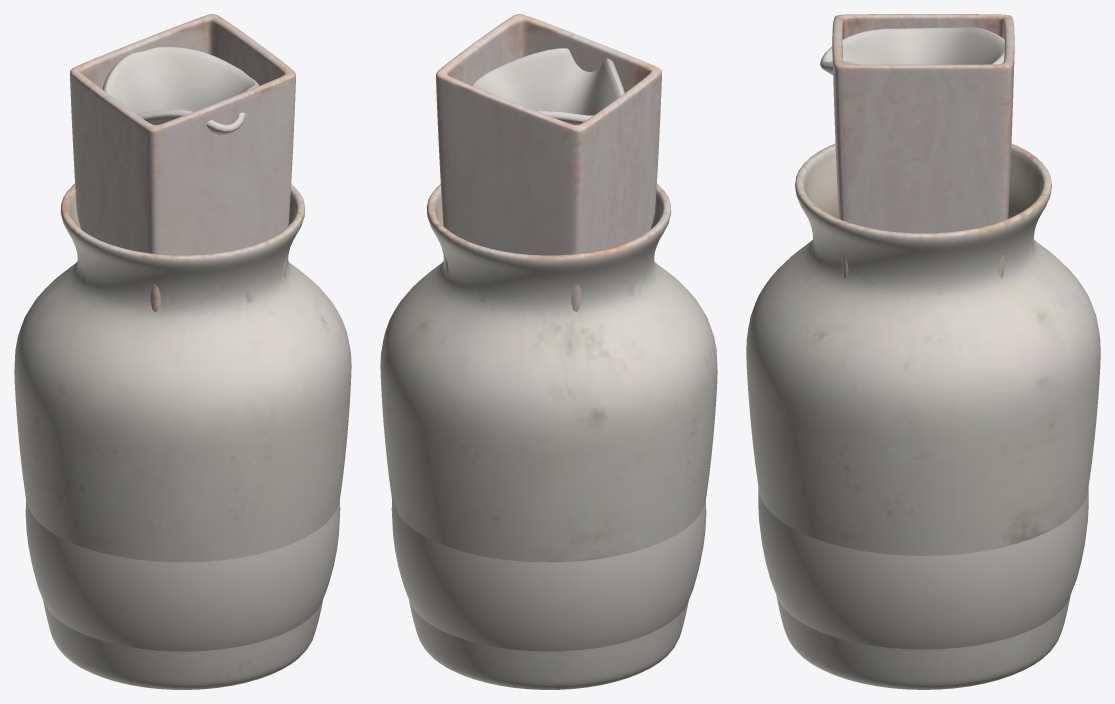
File: decor.glb
3 renders of one model, left to right at view 1: azimuth 30°, elevation 25°; view 2: azimuth 150°, elevation 25°; view 3: azimuth 270°, elevation 25°, orthographic. The views are drawn at different scales.
Parts seen in each view (by area): view 1: ceramic_vase_02, ceramic_vase_03, ceramic_vase_01; view 2: ceramic_vase_02, ceramic_vase_03, ceramic_vase_01; view 3: ceramic_vase_02, ceramic_vase_01, ceramic_vase_03.
Boxes of the visible parts, x1=… form: ceramic_vase_02: x1=14, y1=184, x2=351, y2=689; ceramic_vase_03: x1=70, y1=14, x2=295, y2=312; ceramic_vase_01: x1=25, y1=47, x2=340, y2=651; ceramic_vase_02: x1=380, y1=184, x2=717, y2=689; ceramic_vase_03: x1=436, y1=14, x2=661, y2=312; ceramic_vase_01: x1=391, y1=48, x2=706, y2=651; ceramic_vase_02: x1=746, y1=143, x2=1100, y2=689; ceramic_vase_01: x1=758, y1=27, x2=1088, y2=649; ceramic_vase_03: x1=832, y1=14, x2=1014, y2=278.
Bounding box in the file's own units: 0.2184 × 0.4144 × 0.2184.
Materials: 4 (4 with a texture image).
